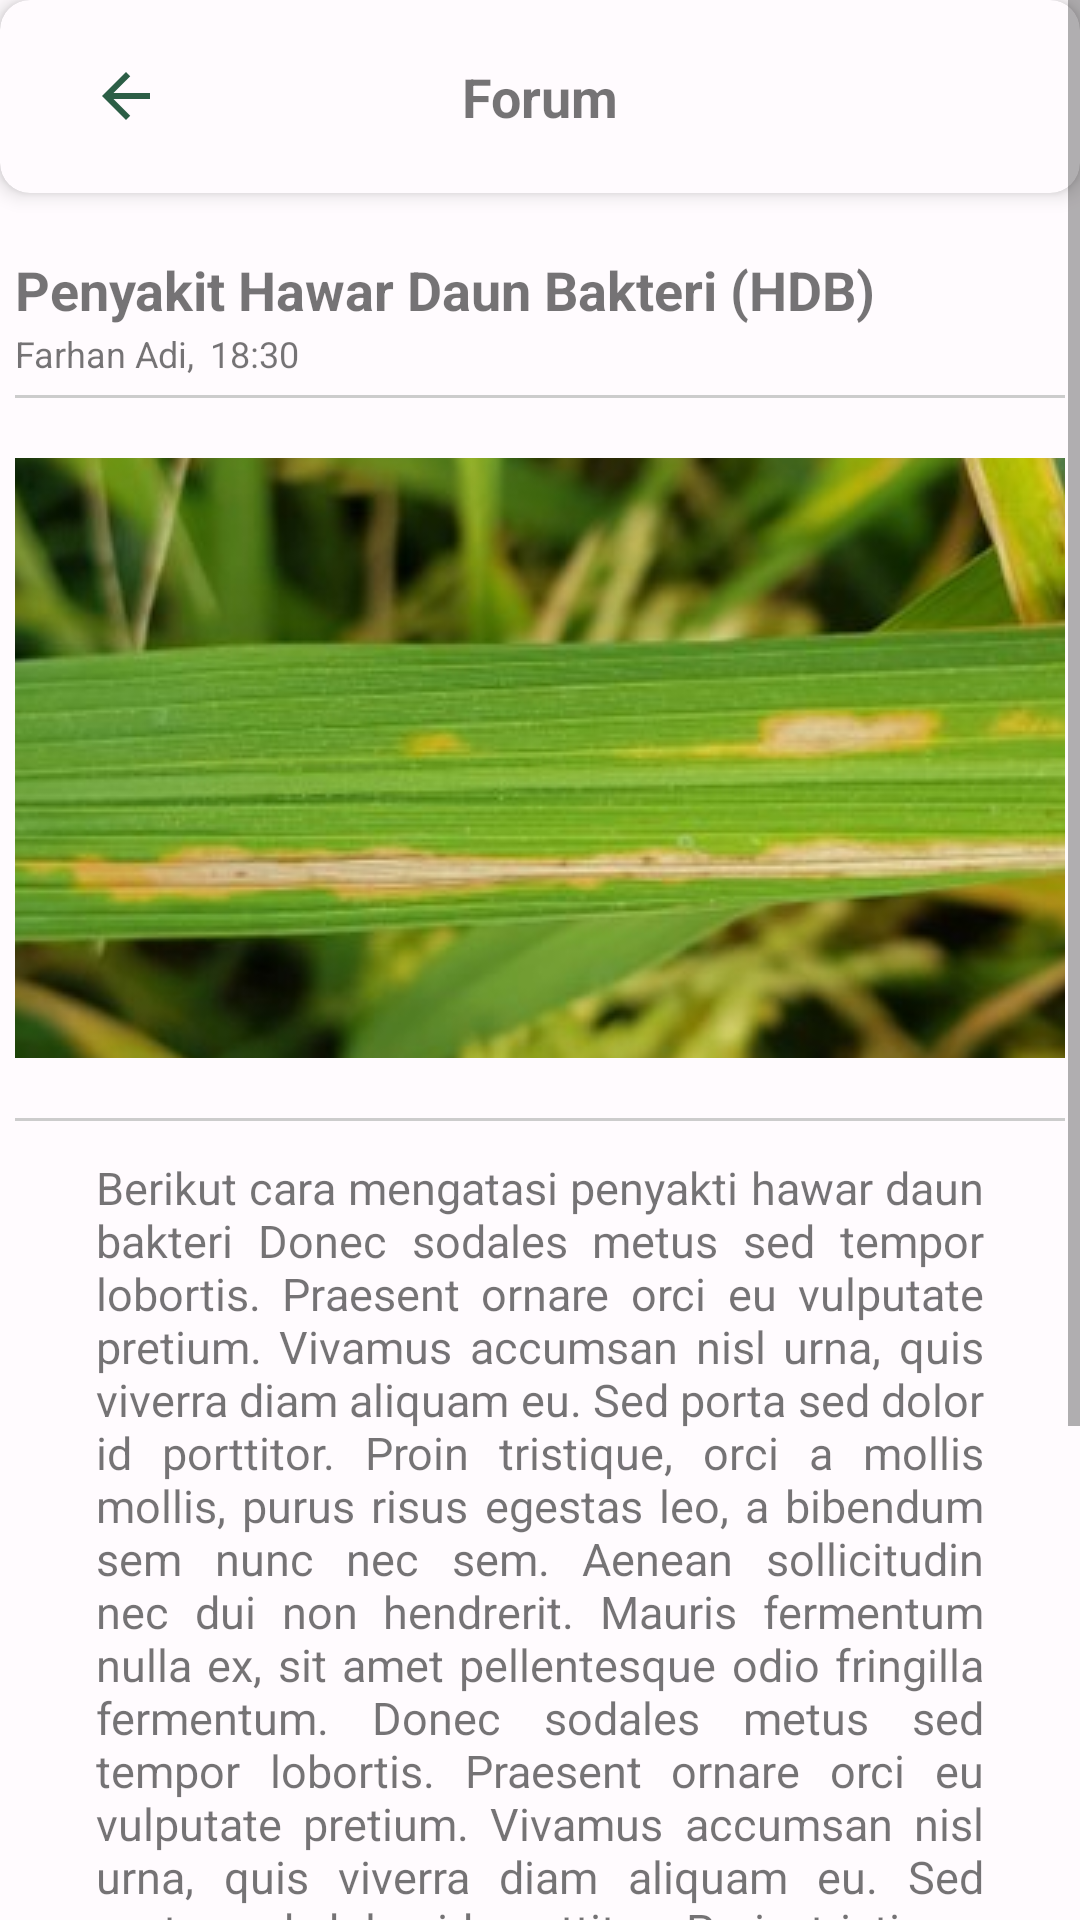

Icon bounding boxes for this 1080px×1920px phone screenshot, format (x1, y1, x2, y2):
arrow back: (102, 72, 150, 120)
